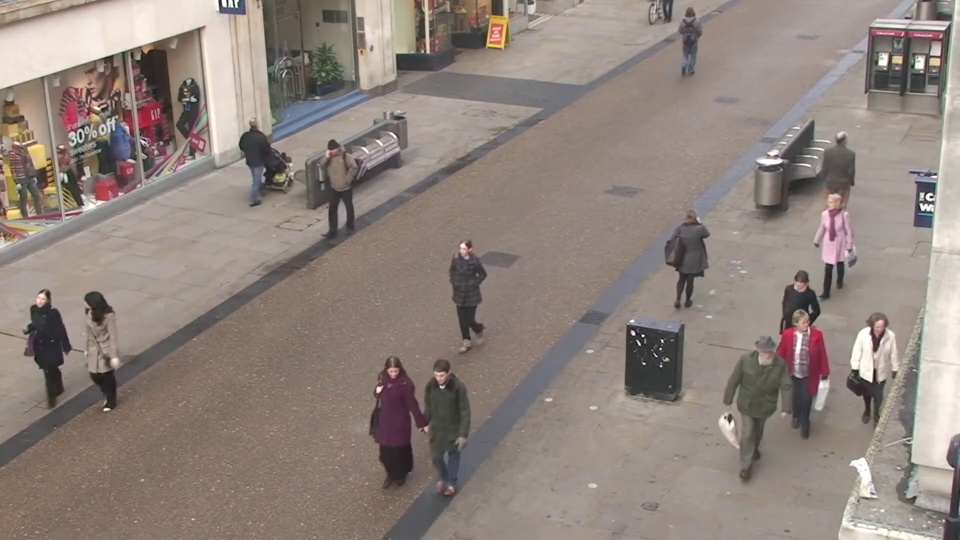pedestrian: (11, 289, 77, 429), (847, 314, 906, 464), (360, 359, 416, 515), (736, 344, 792, 500), (409, 364, 464, 522), (58, 290, 120, 430), (770, 312, 825, 459), (765, 275, 815, 413), (440, 239, 483, 368), (803, 191, 847, 308), (672, 200, 712, 319), (308, 141, 346, 243), (821, 126, 860, 225), (244, 110, 279, 202), (677, 3, 701, 69)
